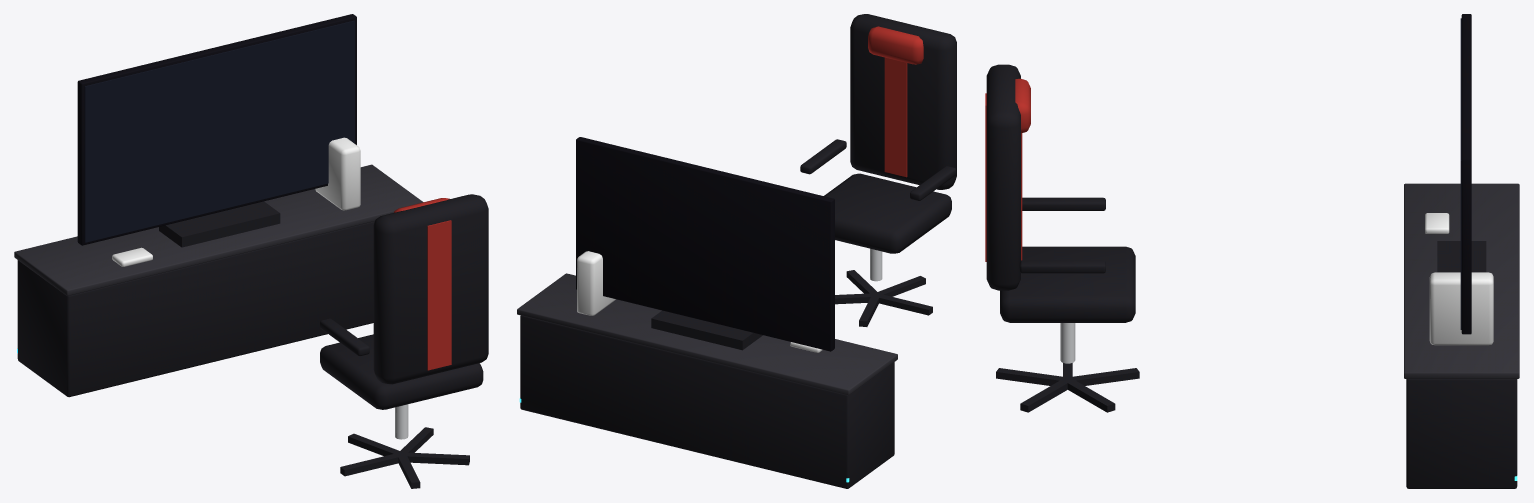
File: fur_gaming_setup.glb
3 views of the same model, side by side, from view 1: azimuth 30°, elevation 25°; view 2: azimuth 150°, elevation 25°; view 3: azimuth 270°, elevation 25° (orthographic). The views are drawn at different scales.
Visible parts, largest first — view 1: FUR_gaming_setup; view 2: FUR_gaming_setup; view 3: FUR_gaming_setup.
Part boxes in pixels (x1,y1,x2,y2): FUR_gaming_setup: [14, 14, 488, 488]; FUR_gaming_setup: [517, 14, 956, 488]; FUR_gaming_setup: [985, 14, 1519, 488].
Bounding box in the file's own units: 1.82 × 1.39 × 2.17.
3 materials, 1 textured.
